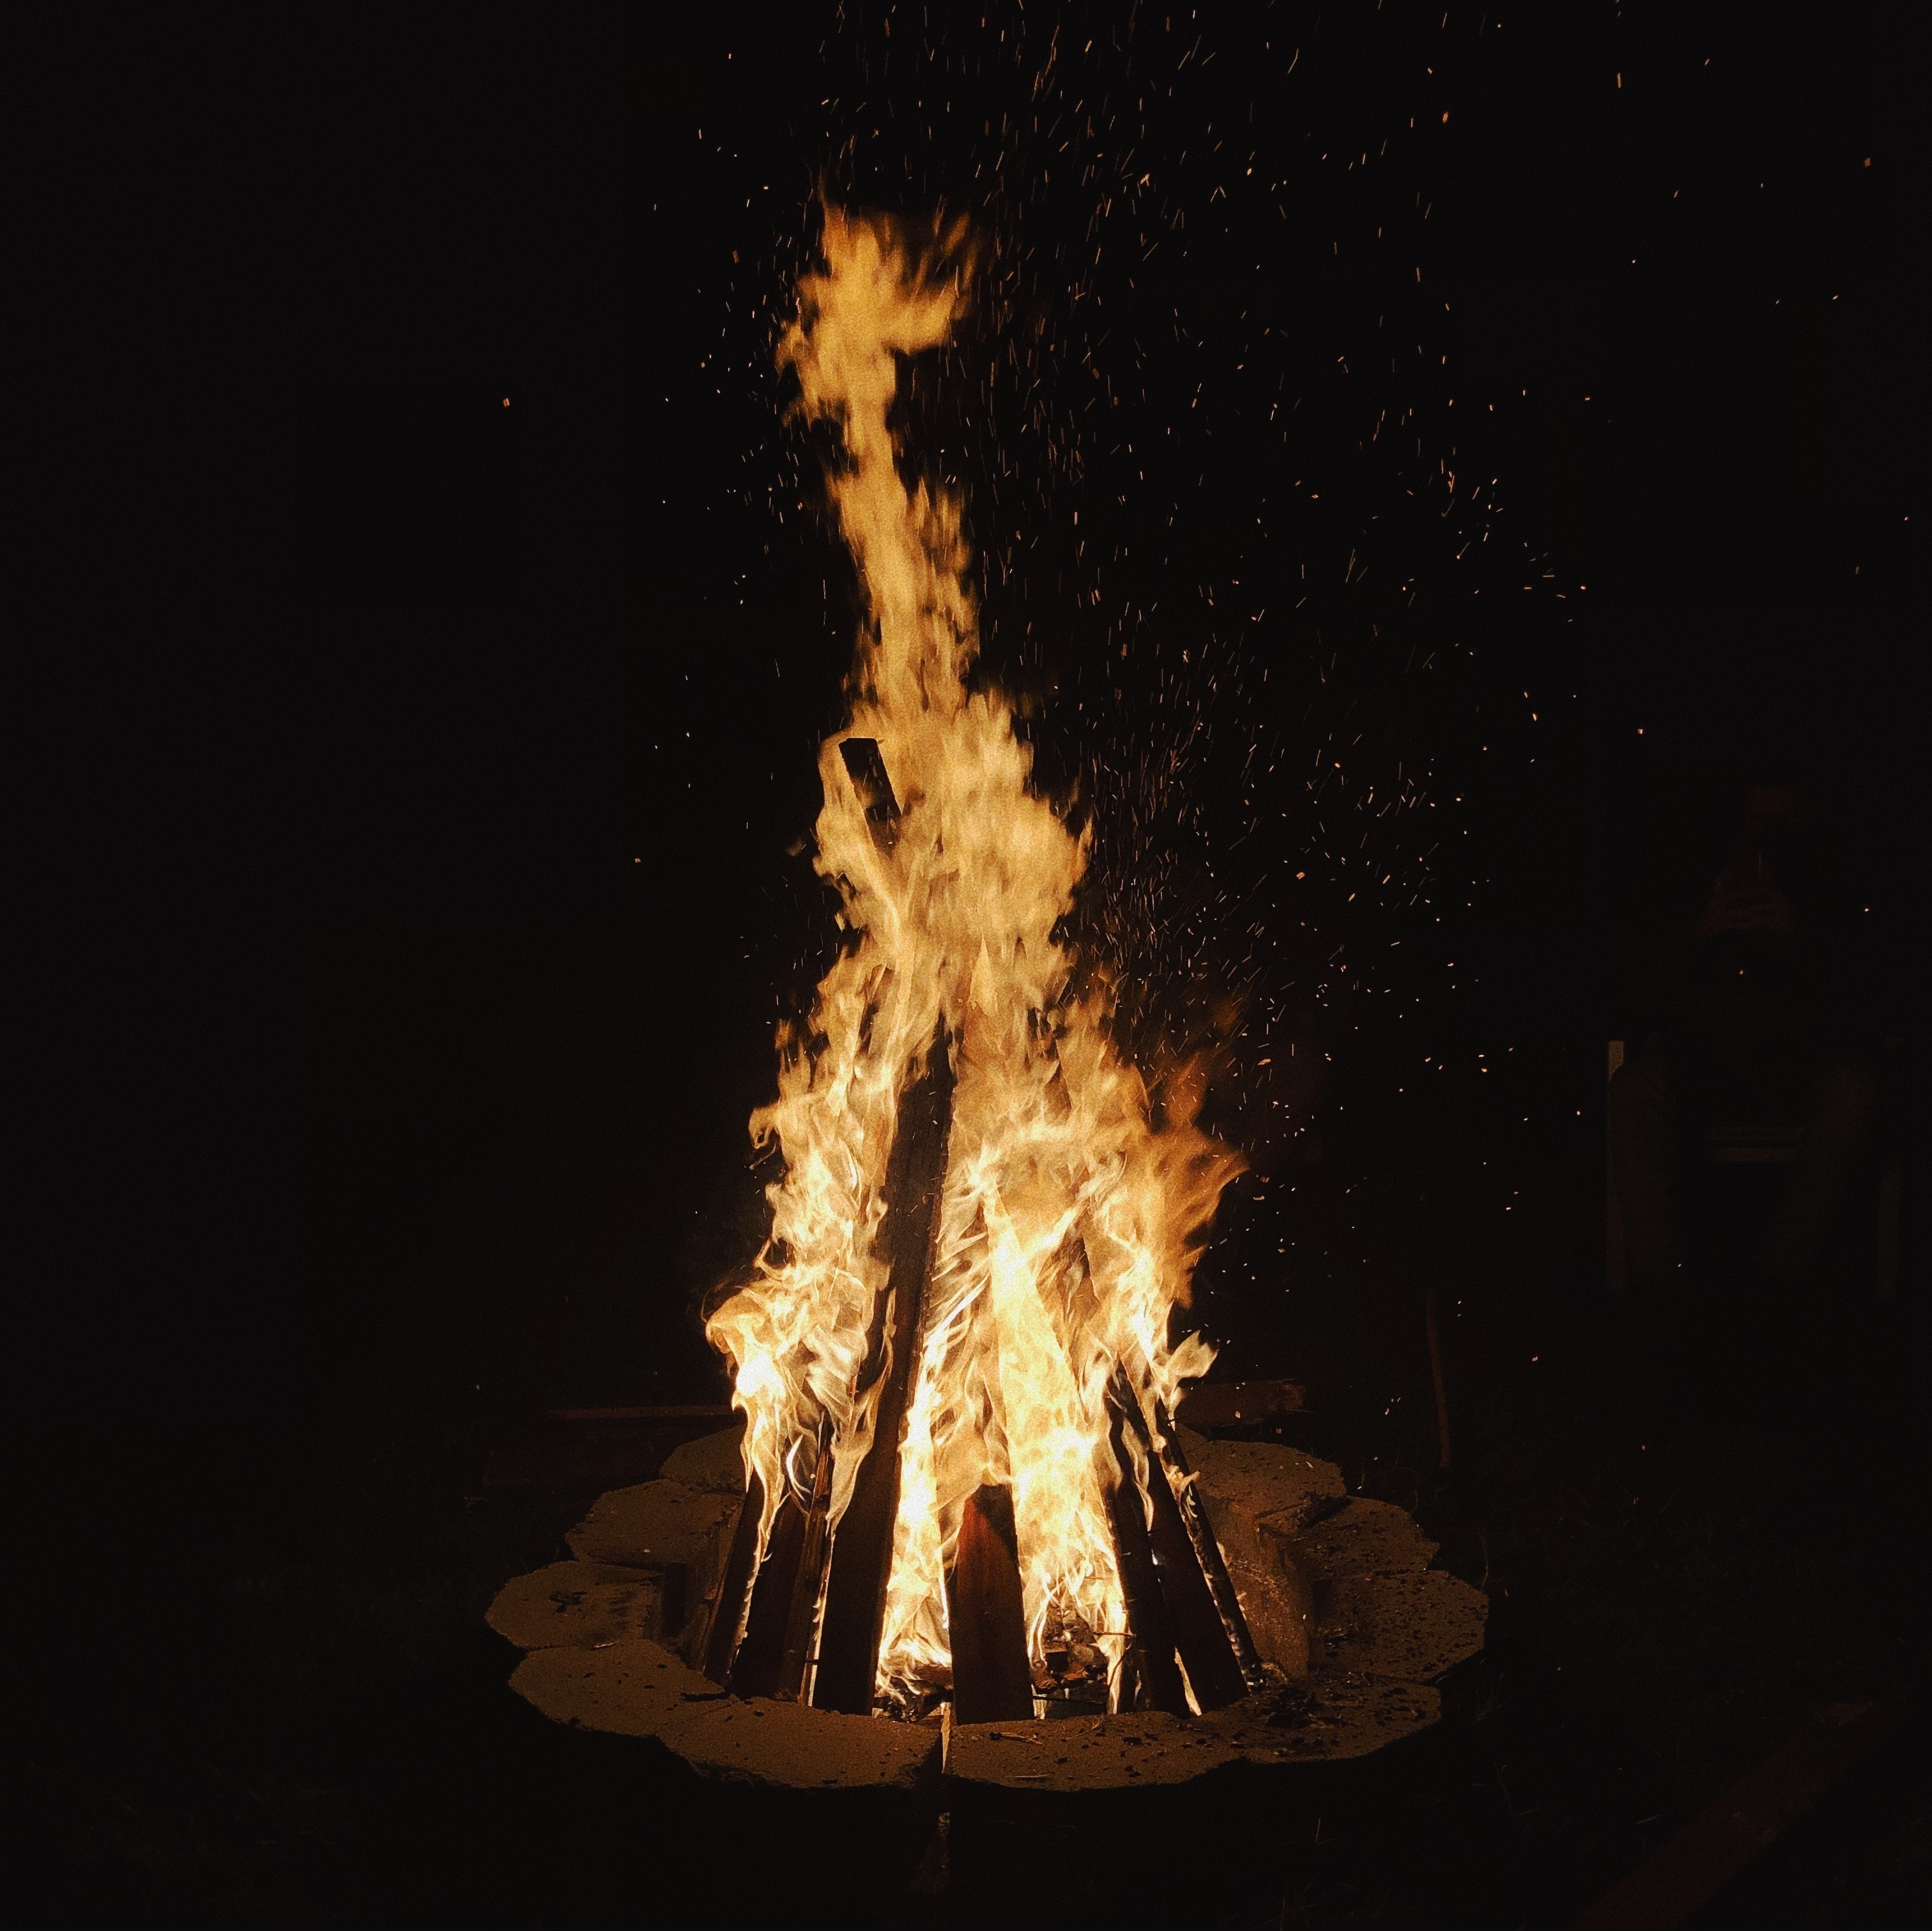fire: (691, 170, 1319, 1848)
